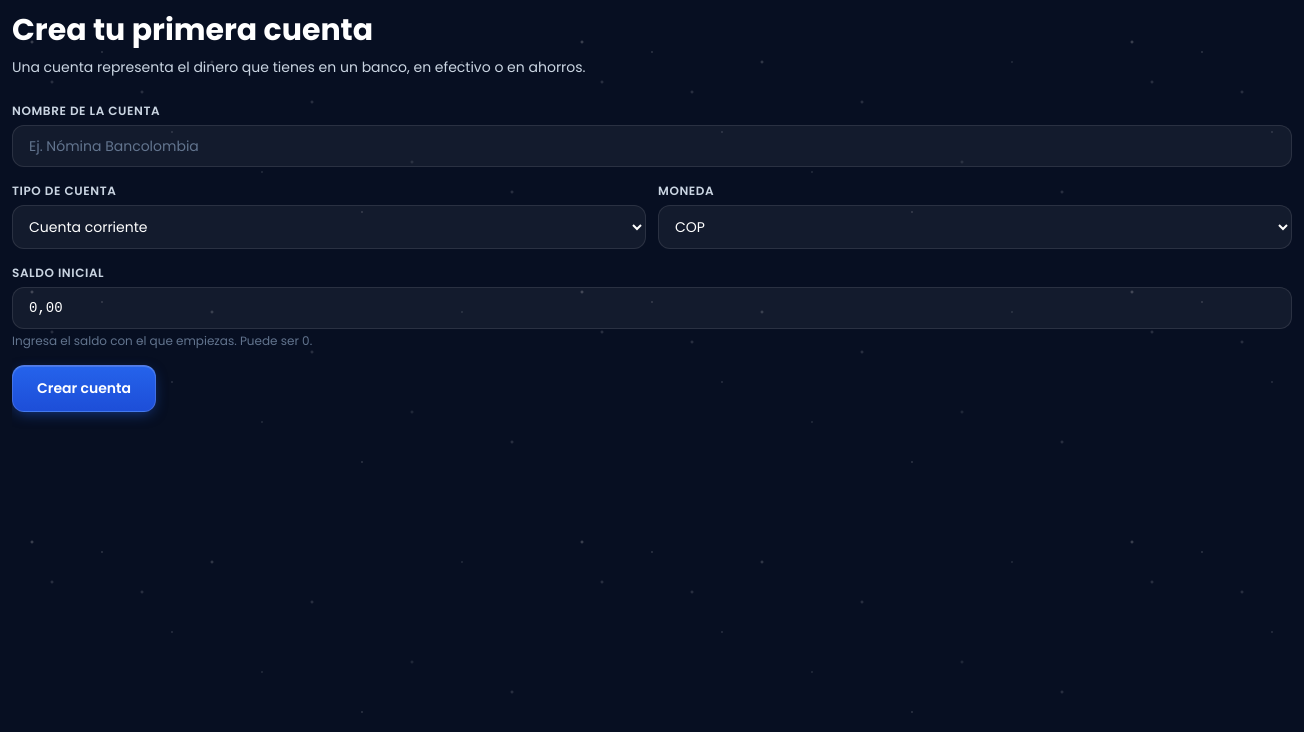
Scenario: StepFirstAccount › shows the invalid-name error for unsupported characters
Step 1. Type "<script>alert(1)</script>" into the field labelled "Nombre de la cuenta" → (652, 146), box [12, 125, 1292, 167]
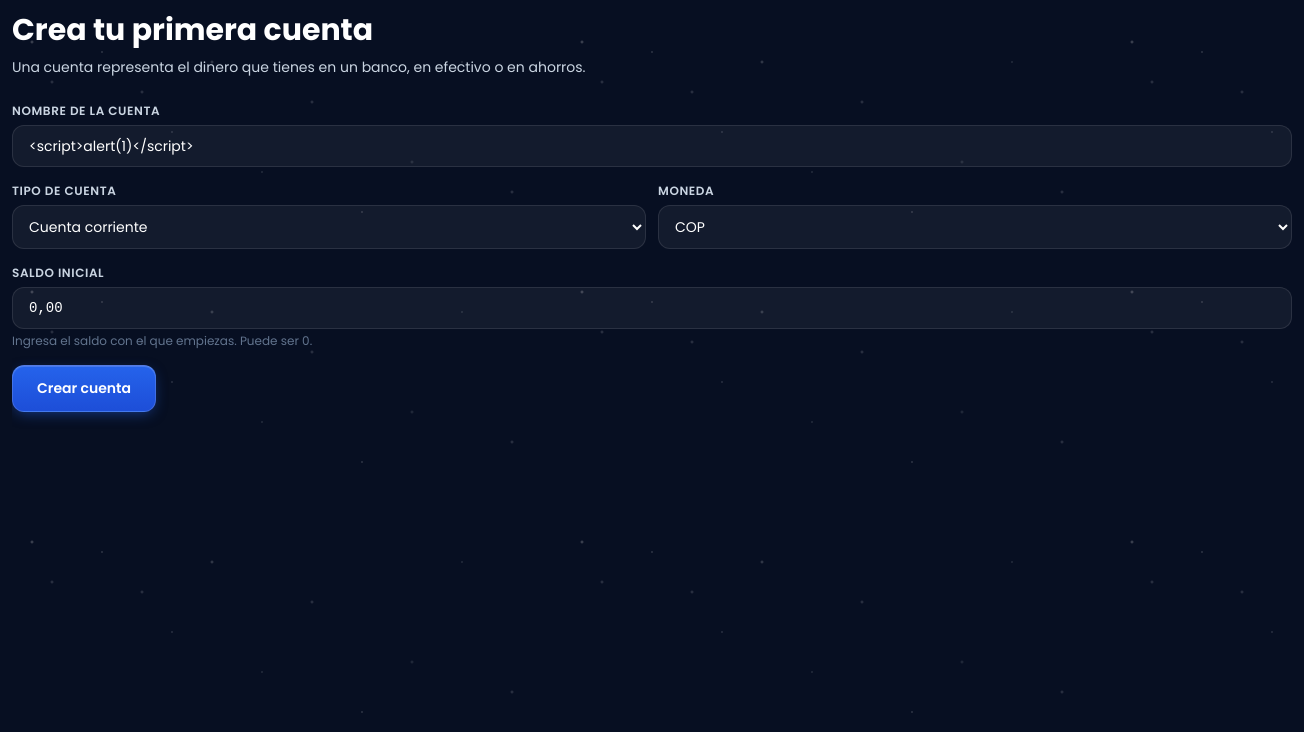
Step 2. Click the button "Crear cuenta" → (84, 388), box [12, 365, 156, 412]
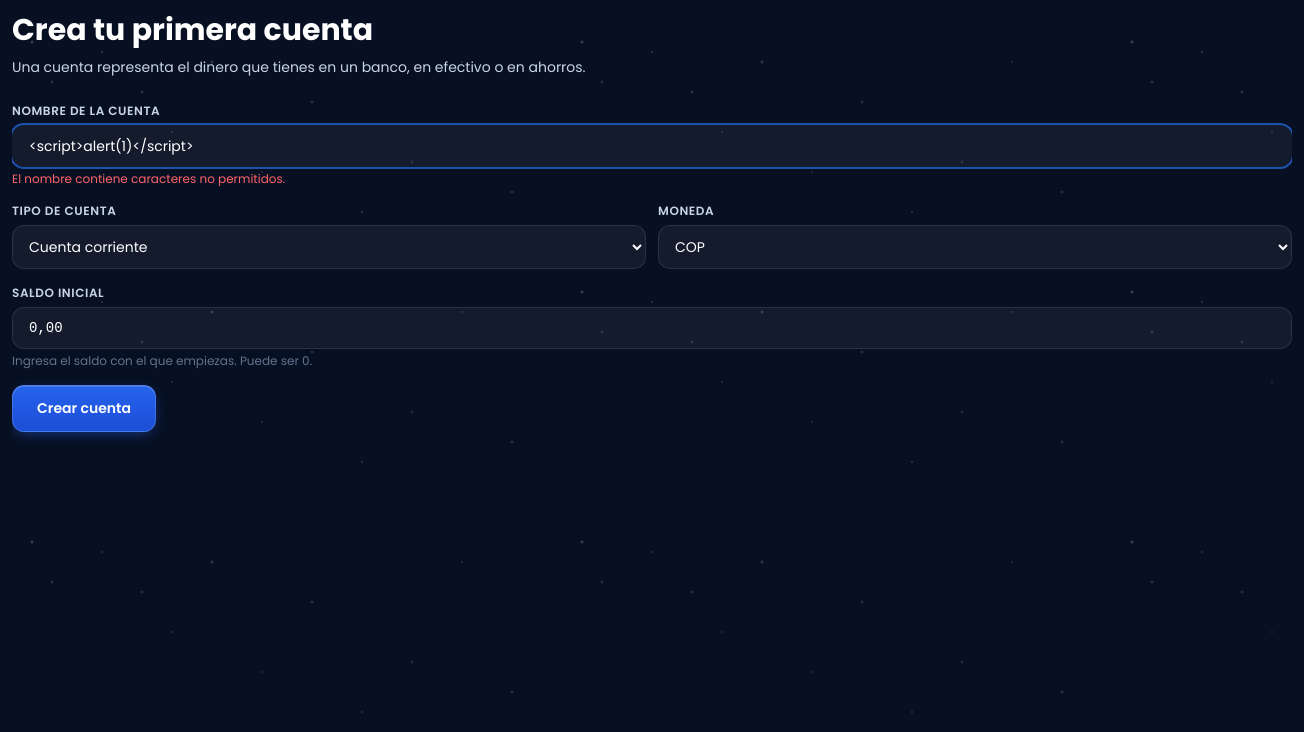
Result: the message reads "El nombre contiene caracteres no permitidos." at [12, 170, 285, 187]
